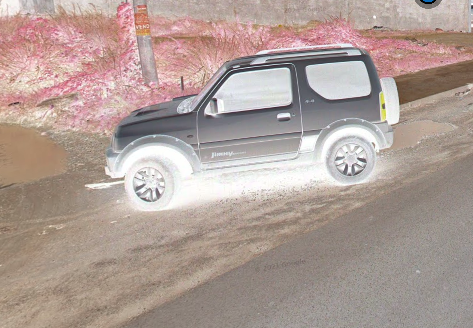car: (103, 41, 401, 211)
